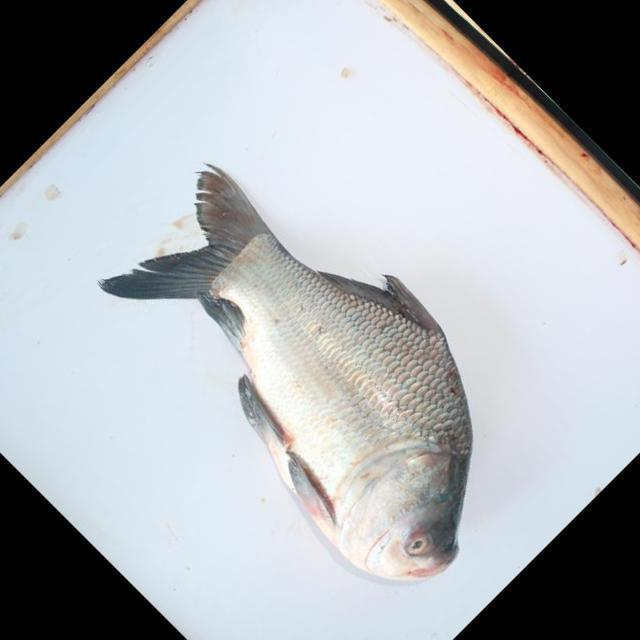Catla: (95, 163, 486, 583)
